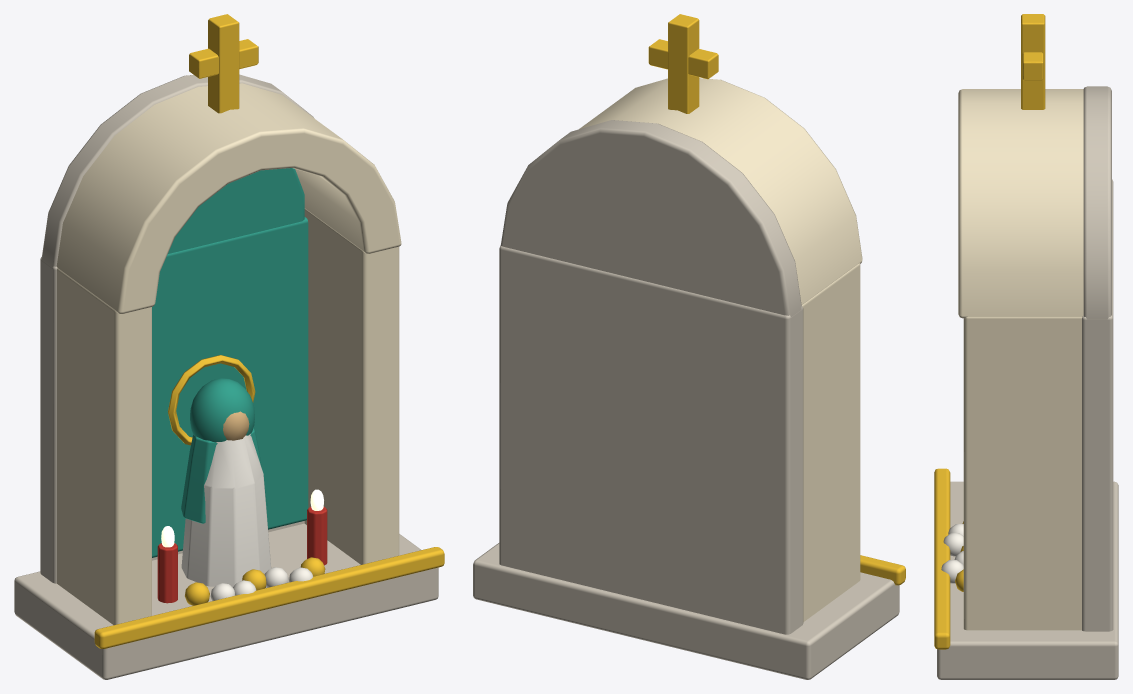
File: prop_shrine.glb
3 views of the same model, side by side, from view 1: azimuth 30°, elevation 25°; view 2: azimuth 150°, elevation 25°; view 3: azimuth 270°, elevation 25° (orthographic).
Parts seen in each view (by area): view 1: prop_shrine; view 2: prop_shrine; view 3: prop_shrine.
Part boxes in pixels (left/top/right/bottom): prop_shrine: left=14, top=14, right=444, bottom=679; prop_shrine: left=473, top=14, right=905, bottom=679; prop_shrine: left=934, top=14, right=1118, bottom=679.
Size of the model in its own units: 0.74 by 1.2 by 0.345.
